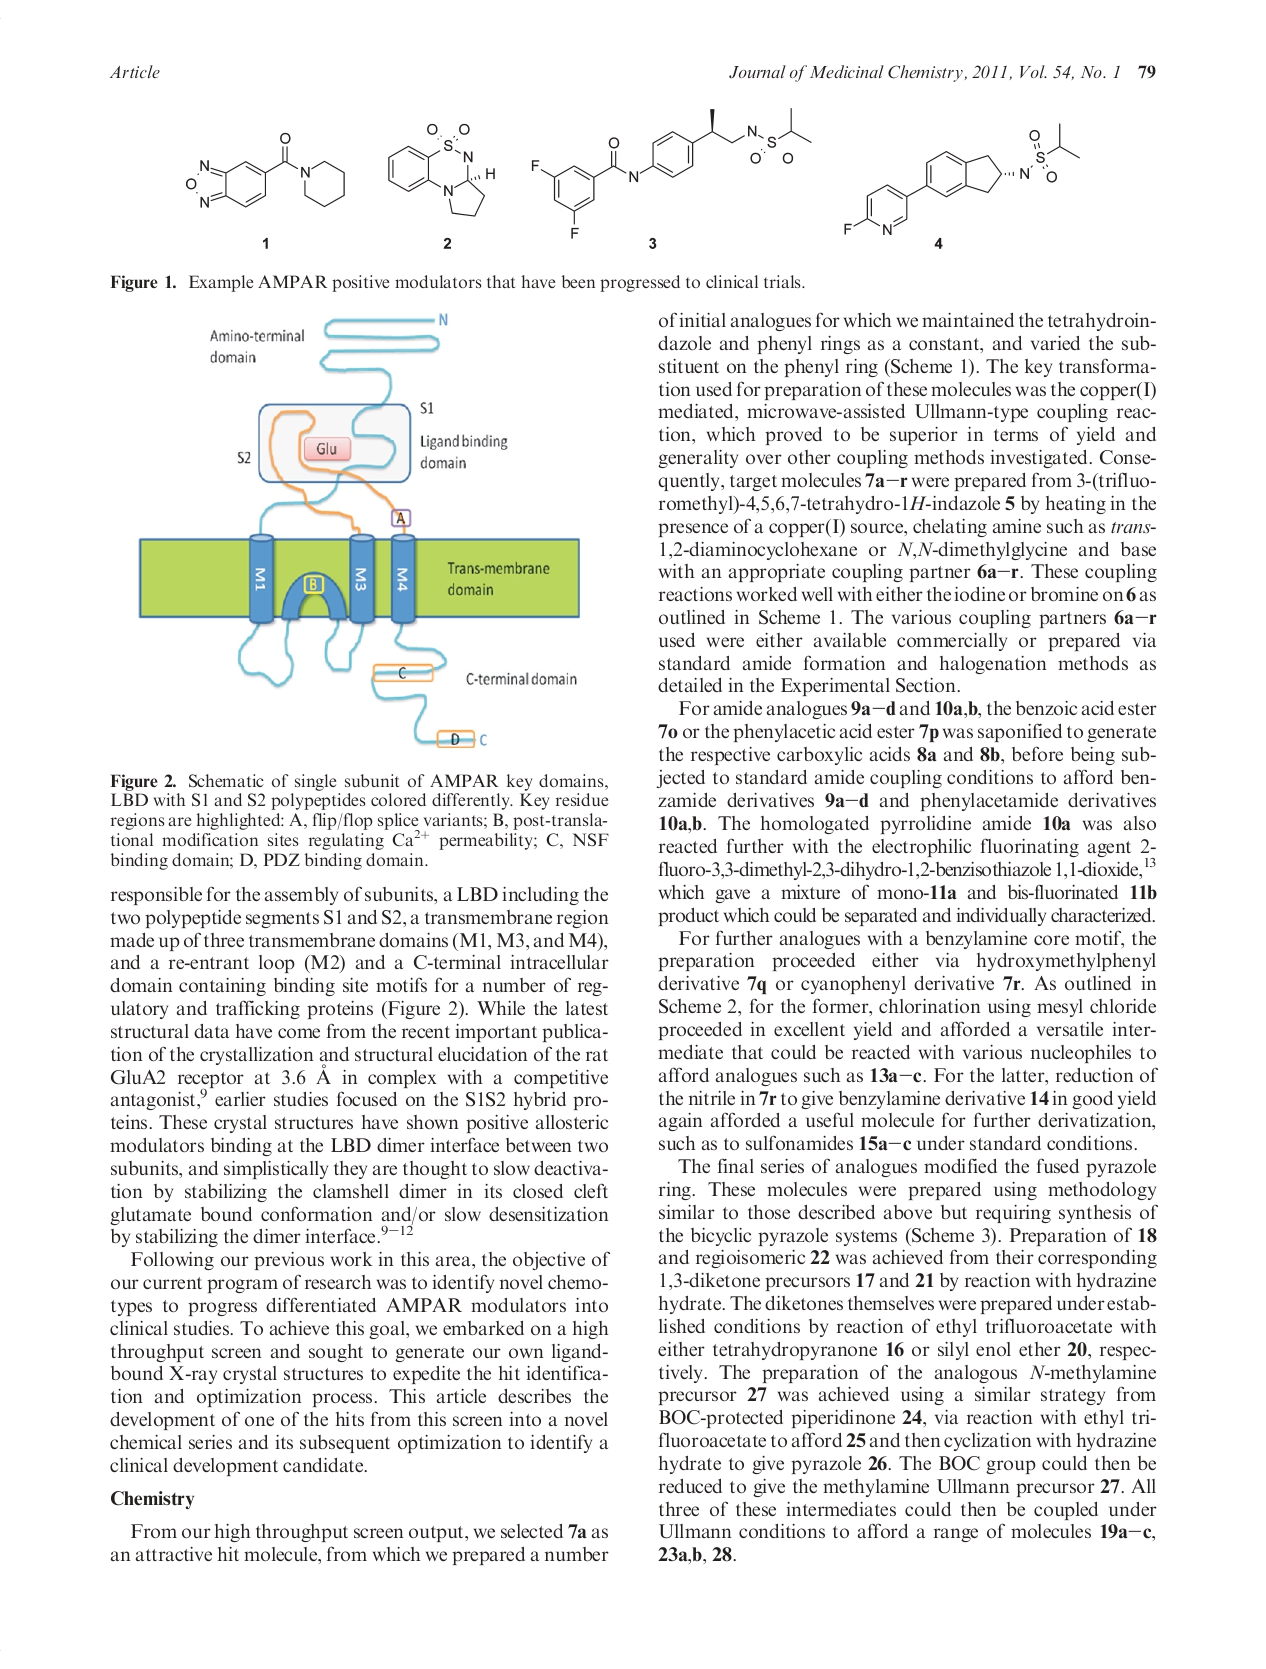exist_molecular: (527, 101, 813, 241), (840, 116, 1081, 235), (182, 130, 352, 217), (382, 116, 501, 223)
